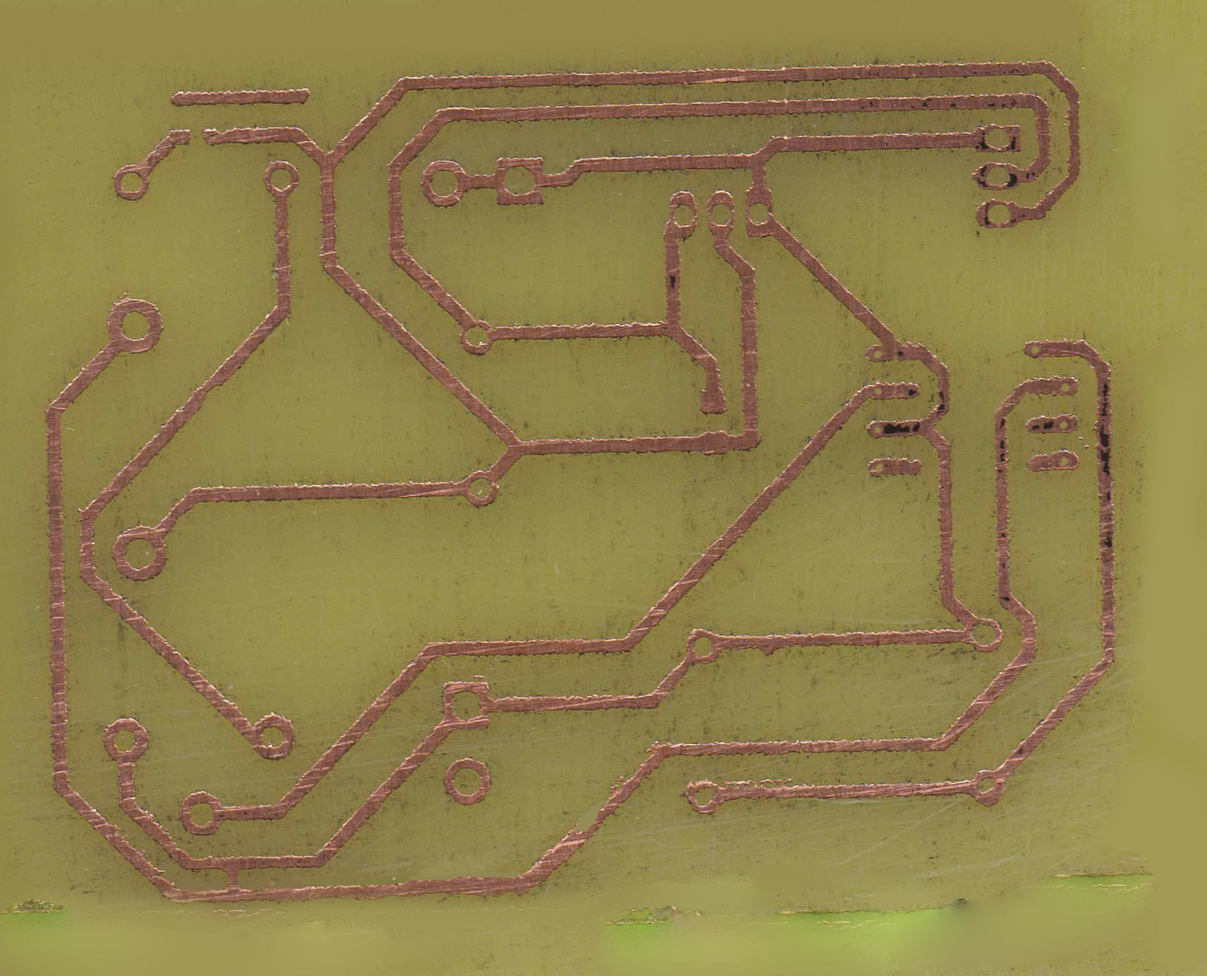mouse_bite: (566, 798, 620, 838)
open_circuit: (180, 126, 212, 148)
short: (222, 852, 247, 908)
spur: (756, 633, 783, 658)
spurious_copper: (164, 84, 320, 112)
